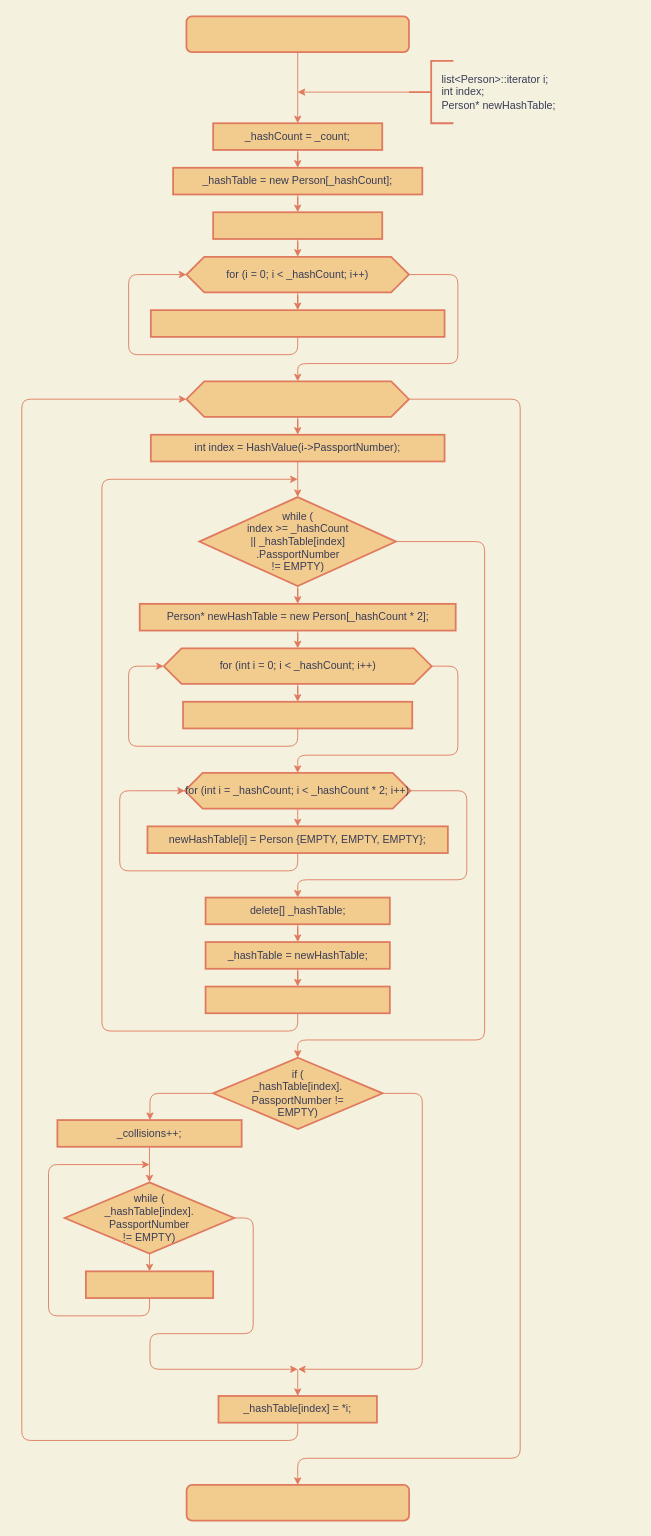
This 651x1536 diagram has some shape labels left out. Here are the shapes that lost their labels. From the top down, the box of each, then its label:
(185, 15, 409, 53): void CreateHashTable()
(212, 211, 383, 239): _collisions = 0;
(150, 309, 445, 337): _hashTable[i] = Person {EMPTY, EMPTY, EMPTY};
(185, 380, 409, 417): for (i = _persons.begin(); i != _persons.end(); i++)
(182, 700, 413, 729): newHashTable[i] = _hashTable[i];
(204, 985, 390, 1014): _hashCount *= 2;
(85, 1270, 214, 1299): index++;
